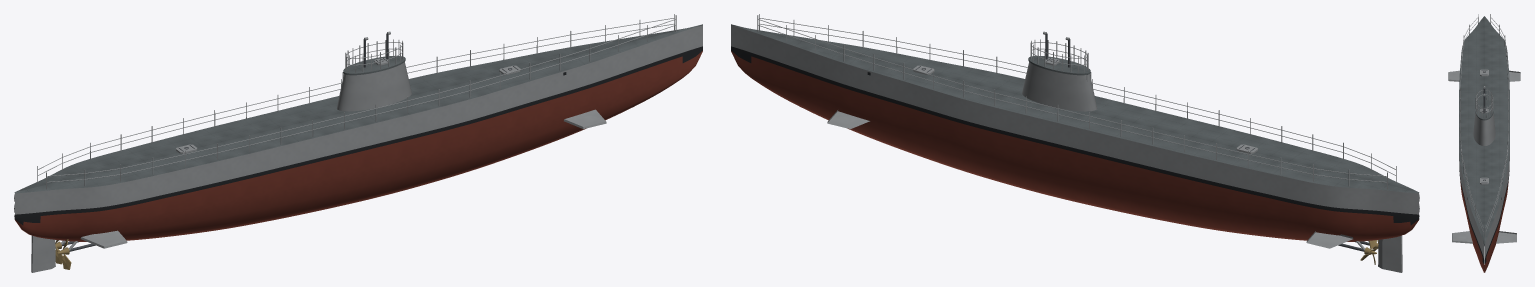
Rendered from hecht_typ2.glb.
3 views of the same model, side by side, from view 1: azimuth 30°, elevation 25°; view 2: azimuth 150°, elevation 25°; view 3: azimuth 270°, elevation 25° (orthographic). The views are drawn at different scales.
Visible parts, largest first — view 1: Hecht; view 2: Hecht; view 3: Hecht.
Part boxes in pixels (x1=…): Hecht: x1=14, y1=14, x2=702, y2=272; Hecht: x1=731, y1=14, x2=1419, y2=272; Hecht: x1=1448, y1=14, x2=1520, y2=272.
Bounding box in the file's own units: 44 × 9.68 × 5.85.
Materials: 6 (6 with a texture image).
